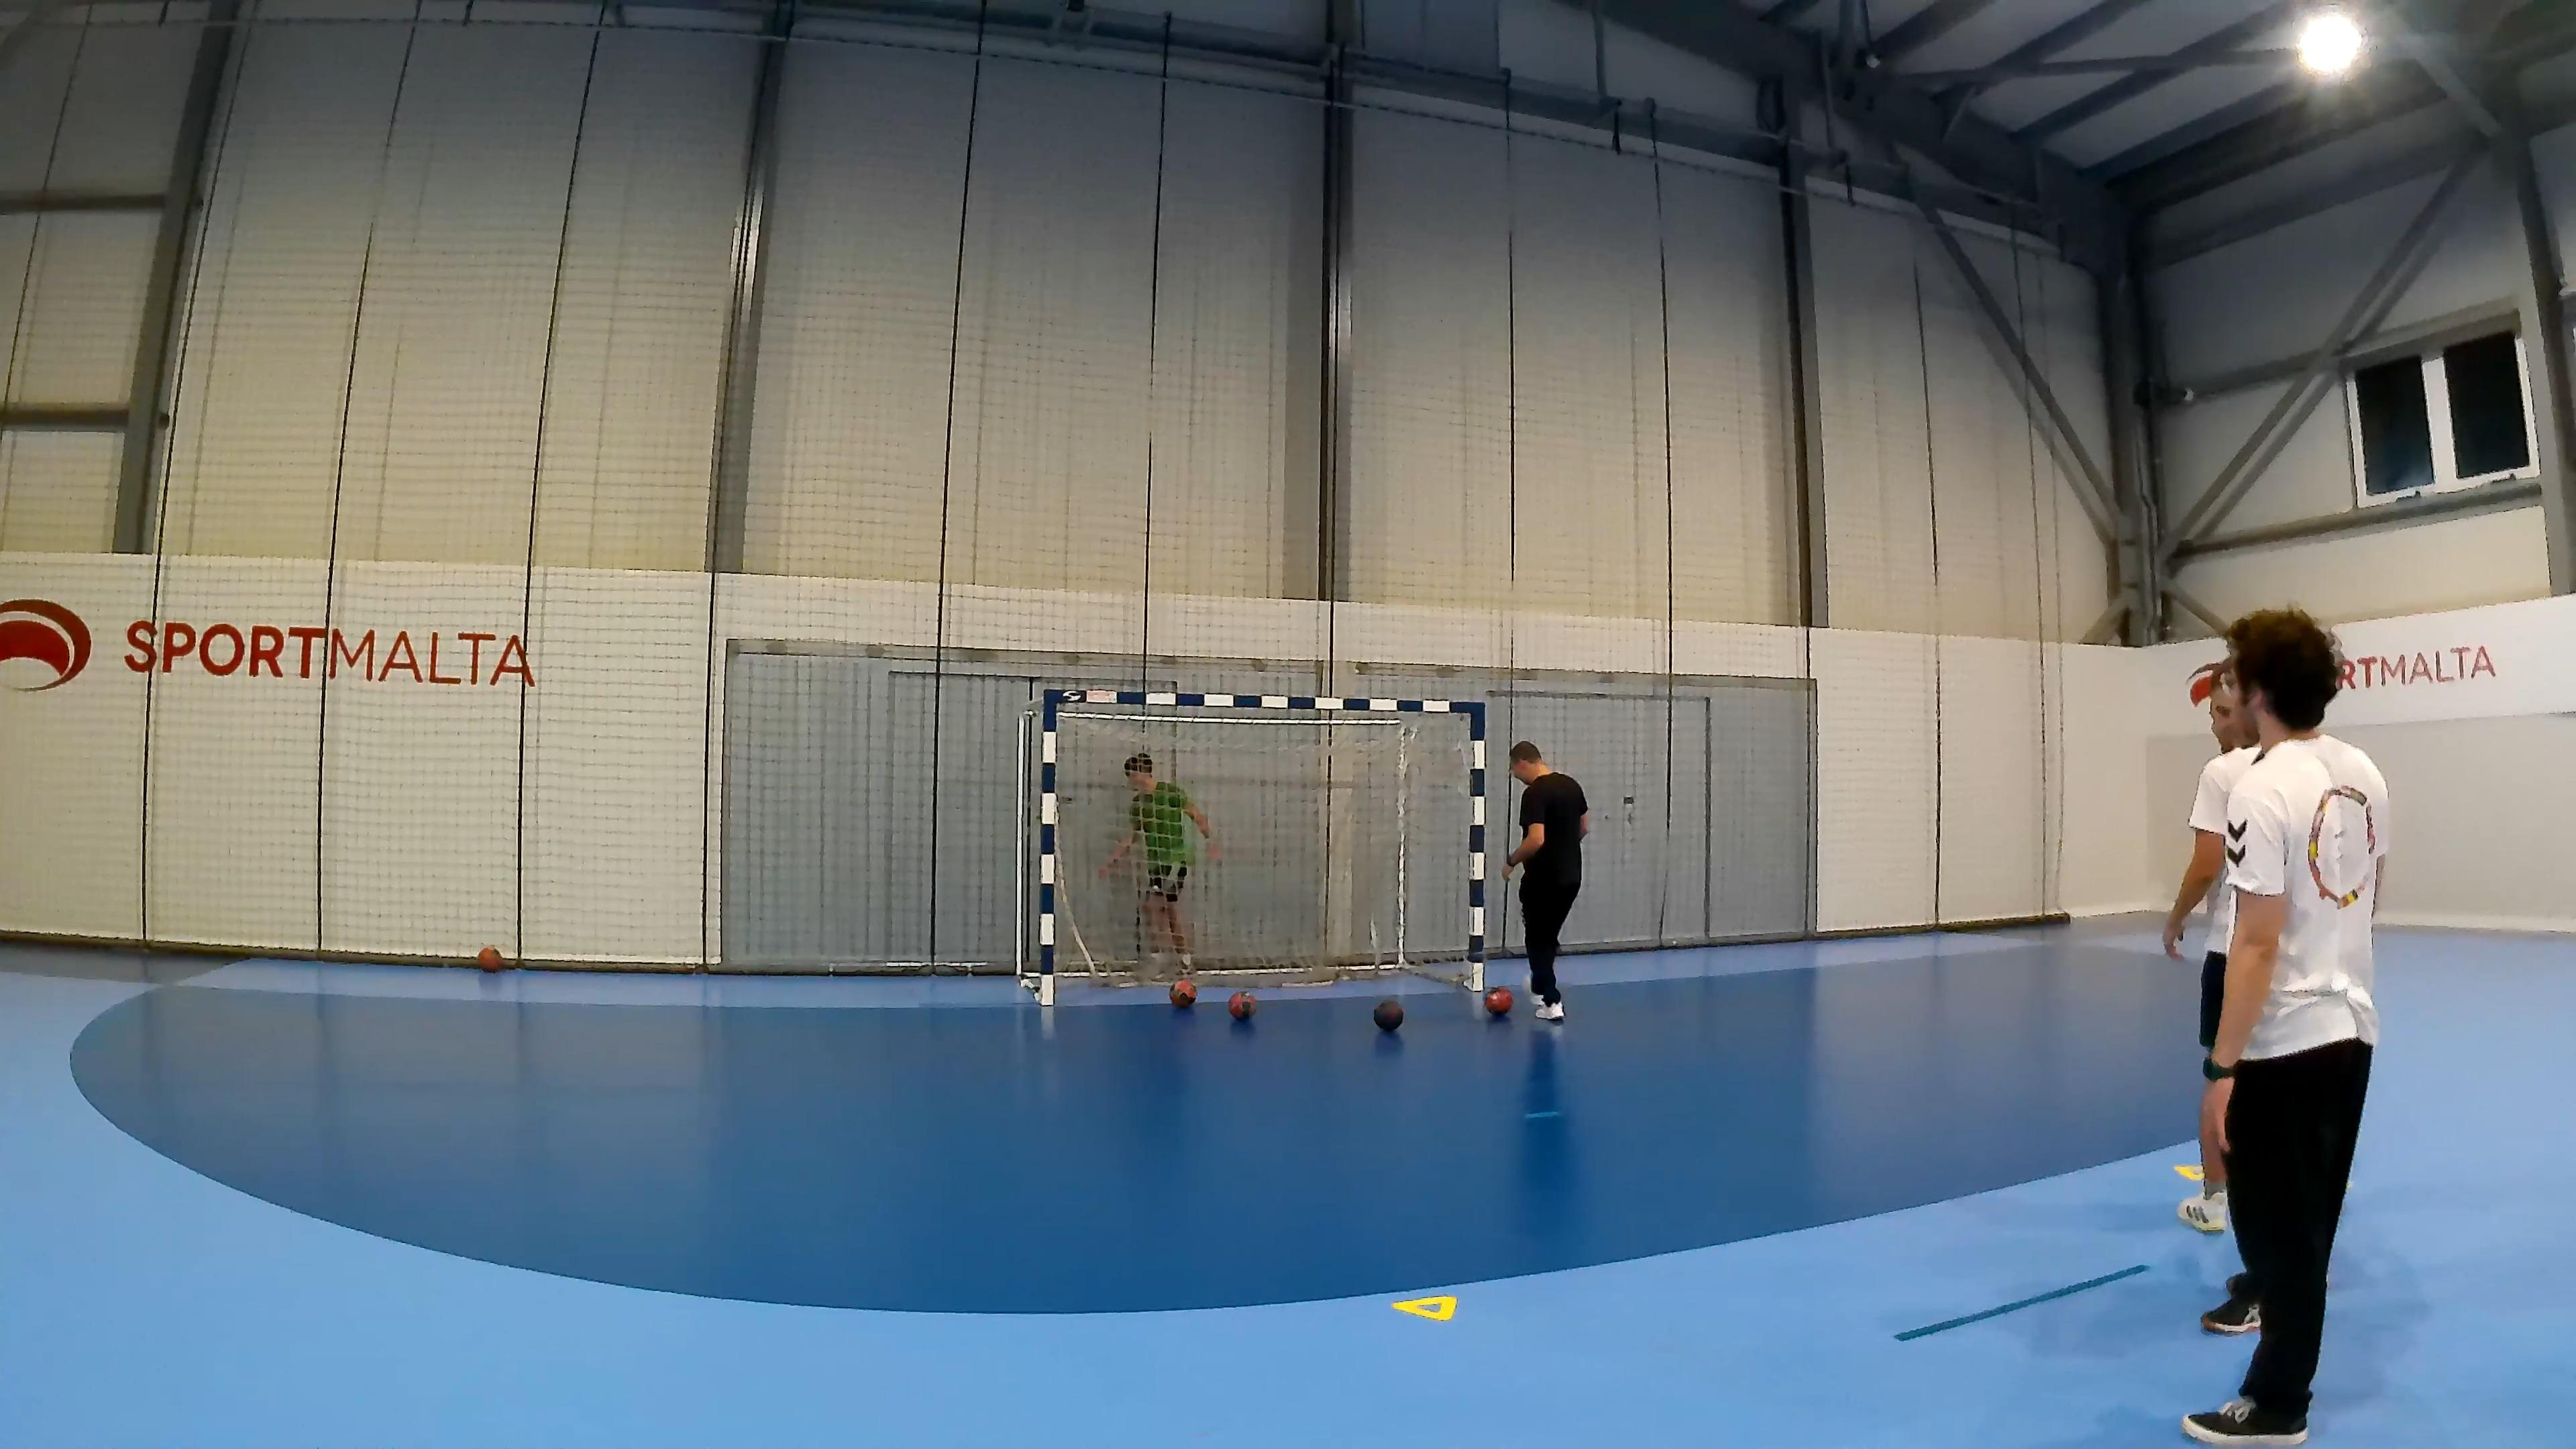handball: (1371, 996, 1403, 1031), (1226, 989, 1256, 1019), (1168, 978, 1196, 1007), (1484, 985, 1513, 1014), (478, 945, 502, 971)
